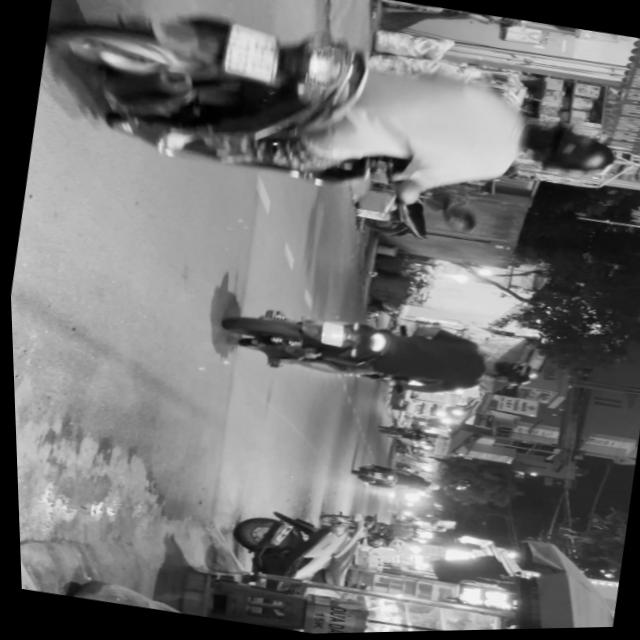helmet: (517, 116, 620, 183), (484, 355, 538, 388)
licenseplate: (30, 0, 632, 245), (217, 288, 542, 418)
nohelmet: (223, 23, 283, 82), (319, 321, 344, 346)
